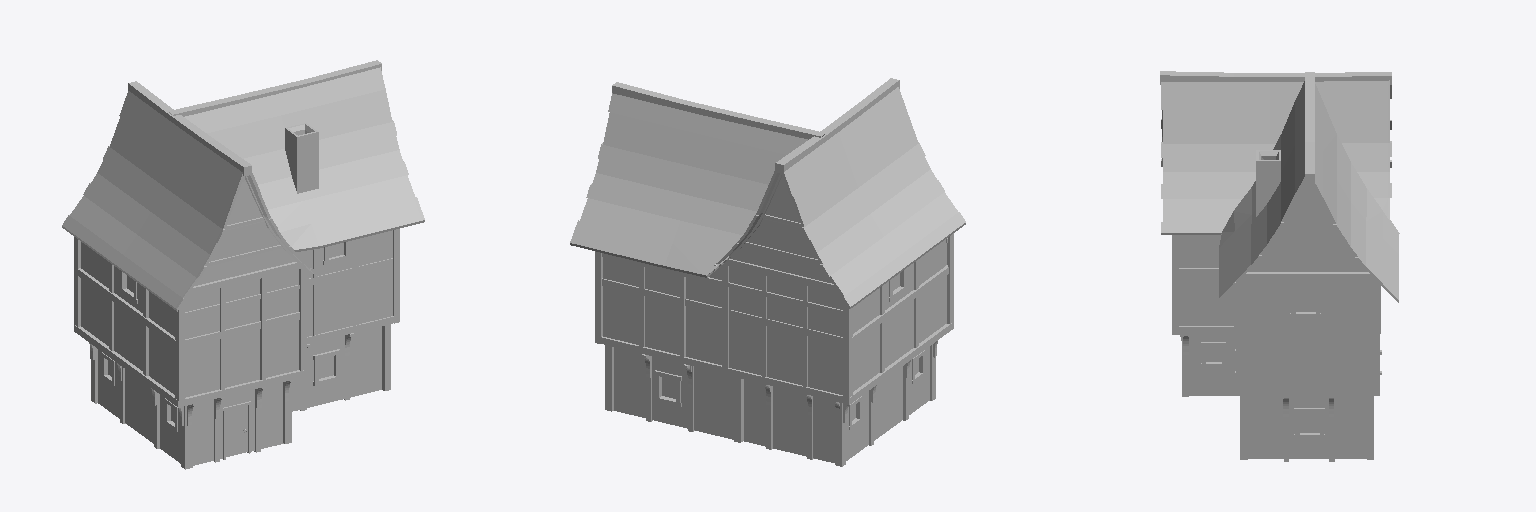
The model's file is house1.obj.
3 renders of one model, left to right at view 1: azimuth 30°, elevation 25°; view 2: azimuth 150°, elevation 25°; view 3: azimuth 270°, elevation 25°, orthographic.
Visible parts, largest first — view 1: Large_Medieval_House_Sphere; view 2: Large_Medieval_House_Sphere; view 3: Large_Medieval_House_Sphere.
Boxes of the visible parts, box(x1,y1,x2,y2) form: Large_Medieval_House_Sphere: box(62, 60, 424, 469); Large_Medieval_House_Sphere: box(570, 78, 965, 466); Large_Medieval_House_Sphere: box(1160, 71, 1399, 461).
Size of the model in its own units: 17.38 by 17.94 by 12.98.